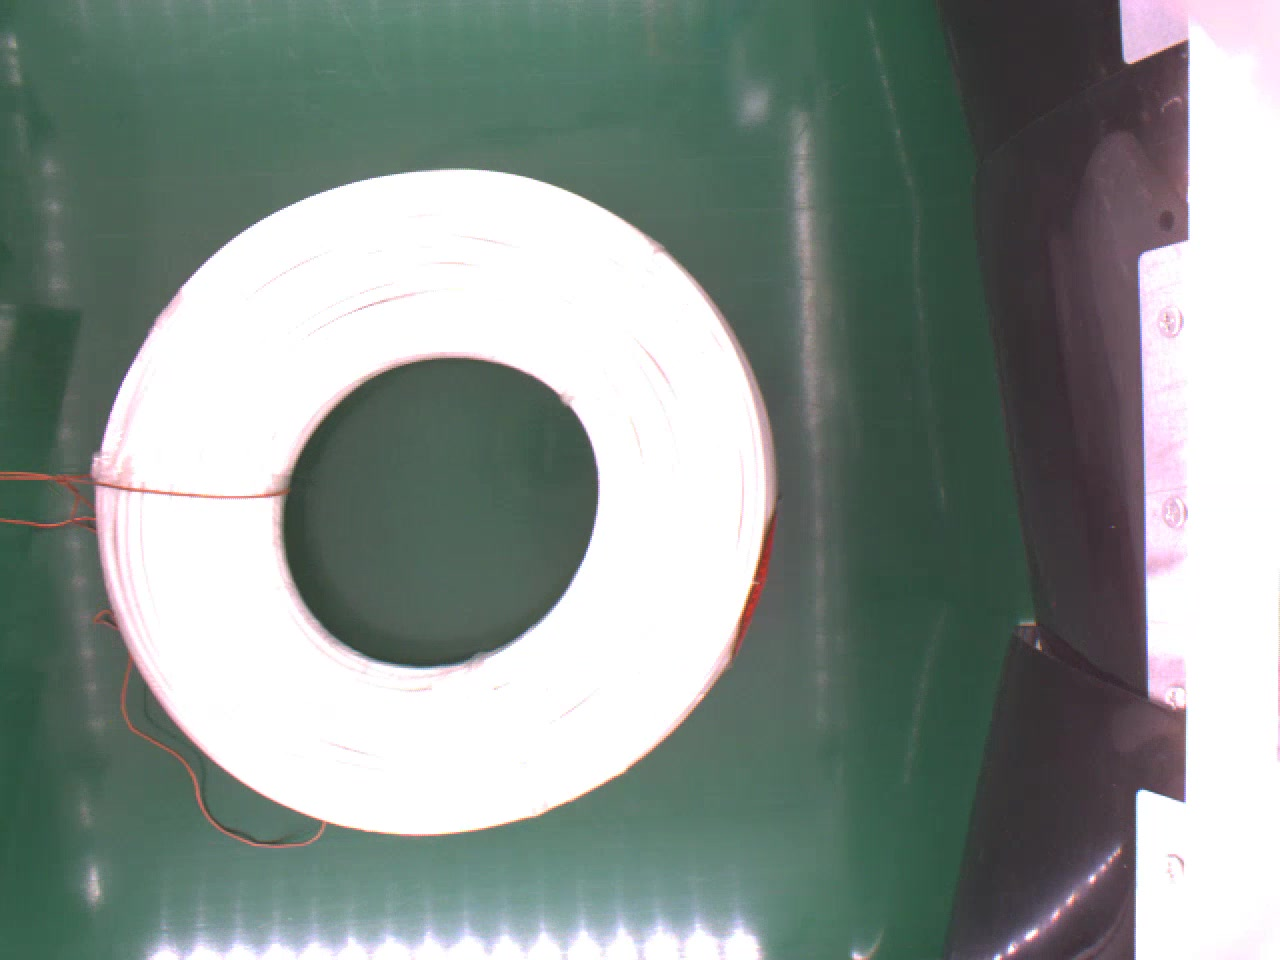white: (90, 166, 781, 839)
